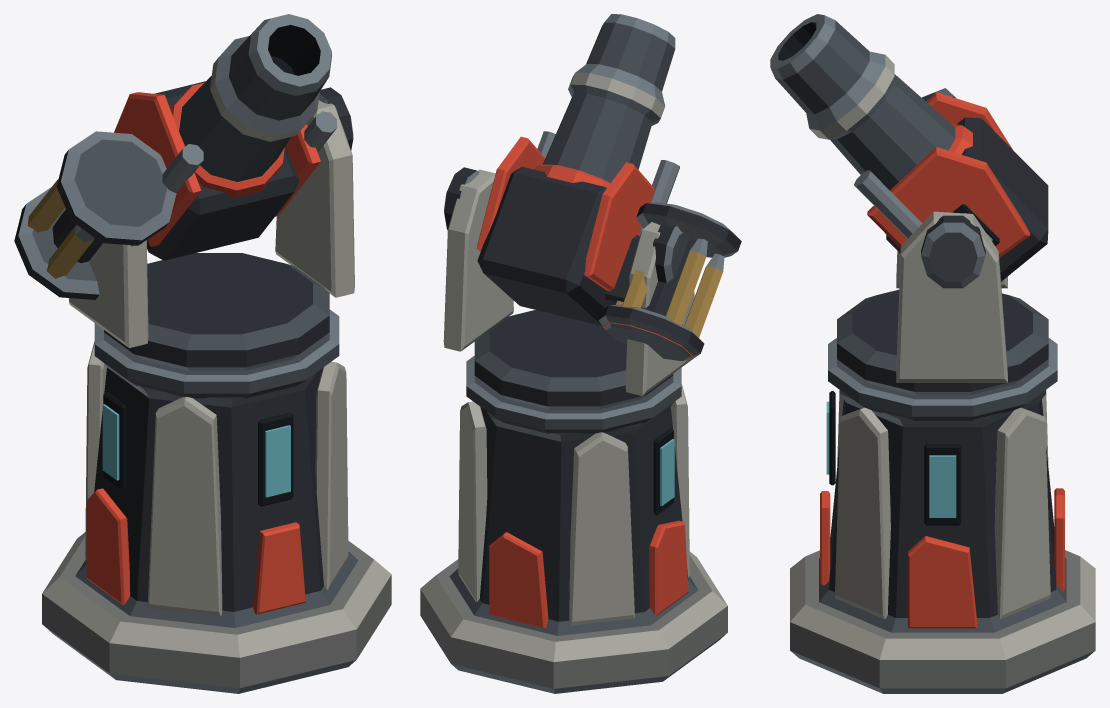
File: lv2_balistique.glb
3 renders of one model, left to right at view 1: azimuth 30°, elevation 25°; view 2: azimuth 150°, elevation 25°; view 3: azimuth 270°, elevation 25°, orthographic. The views are drawn at different scales.
Parts seen in each view (by area): view 1: Base, Barrel_Recoil, Turret_Yaw, Base_TeamColor, Team_Panels; view 2: Base, Barrel_Recoil, Turret_Yaw, Base_TeamColor, Team_Panels; view 3: Base, Turret_Yaw, Barrel_Recoil, Team_Panels, Base_TeamColor.
Boxes of the visible parts, x1,y1,x2,y2 form: Base: [42, 309, 391, 693]; Barrel_Recoil: [14, 14, 337, 299]; Turret_Yaw: [69, 87, 354, 370]; Base_TeamColor: [86, 488, 305, 614]; Team_Panels: [114, 82, 320, 246]; Base: [420, 356, 727, 693]; Barrel_Recoil: [477, 14, 741, 361]; Turret_Yaw: [443, 167, 694, 409]; Base_TeamColor: [489, 520, 688, 628]; Team_Panels: [476, 136, 692, 360]; Base: [790, 338, 1095, 693]; Turret_Yaw: [837, 211, 1048, 395]; Barrel_Recoil: [770, 14, 1048, 281]; Team_Panels: [867, 92, 1030, 257]; Base_TeamColor: [820, 488, 1064, 628].
Size of the model in its own units: 1.47 by 3 by 1.44.
